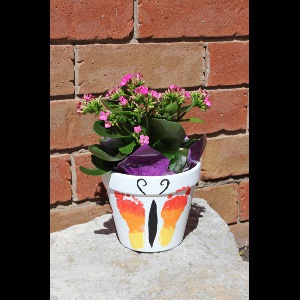flowerpot: (99, 149, 206, 255)
